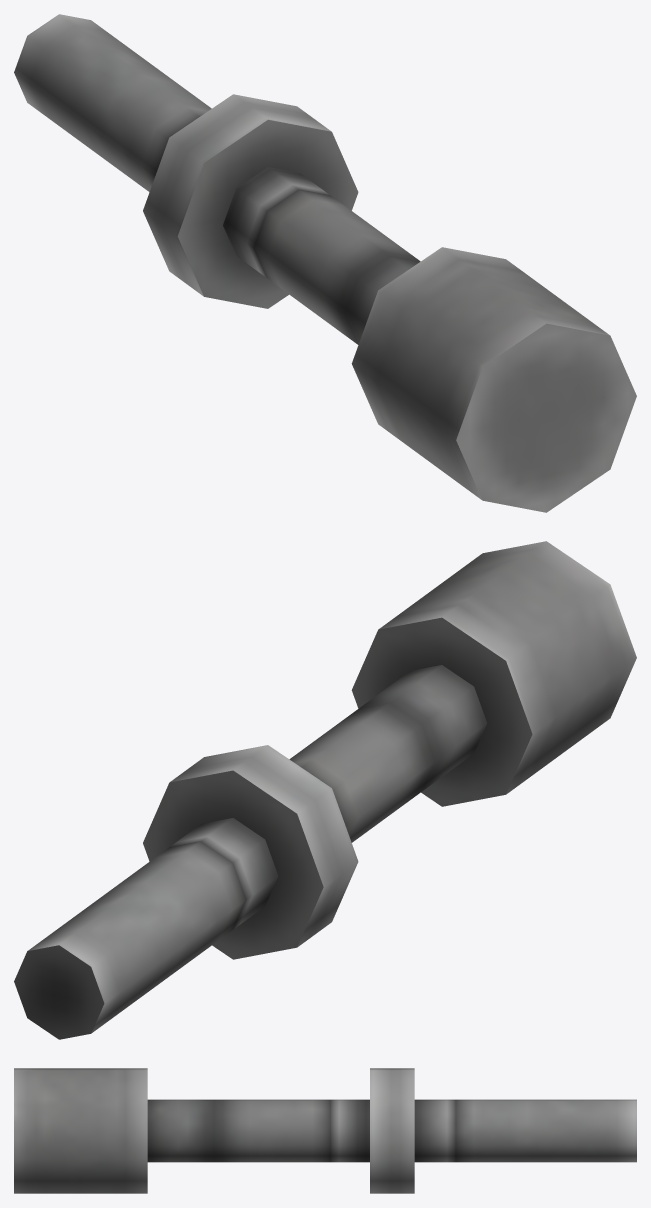
File: 1mv_high_gain_antenna_srf_1_base.obj
3 renders of one model, top to bottom at view 1: azimuth 30°, elevation 25°; view 2: azimuth 150°, elevation 25°; view 3: azimuth 270°, elevation 25°, orthographic. The views are drawn at different scales.
Parts seen in each view (by area): view 1: mesh1; view 2: mesh1; view 3: mesh1.
Boxes of the visible parts, x1,y1,x2,y2 form: mesh1: (14, 14, 636, 512); mesh1: (14, 541, 636, 1039); mesh1: (14, 1068, 636, 1193).
Size of the model in its own units: 0.075 by 0.075 by 0.35.
1 material, 1 textured.
